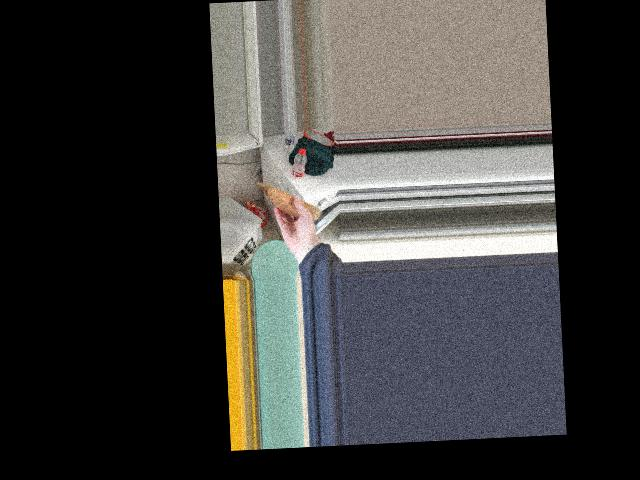sweet_potato: (271, 184, 306, 218)
